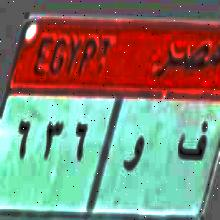3: (40, 112, 66, 164)
6: (69, 118, 95, 166), (14, 113, 34, 164)
faa: (174, 107, 210, 174), (120, 128, 150, 184)
